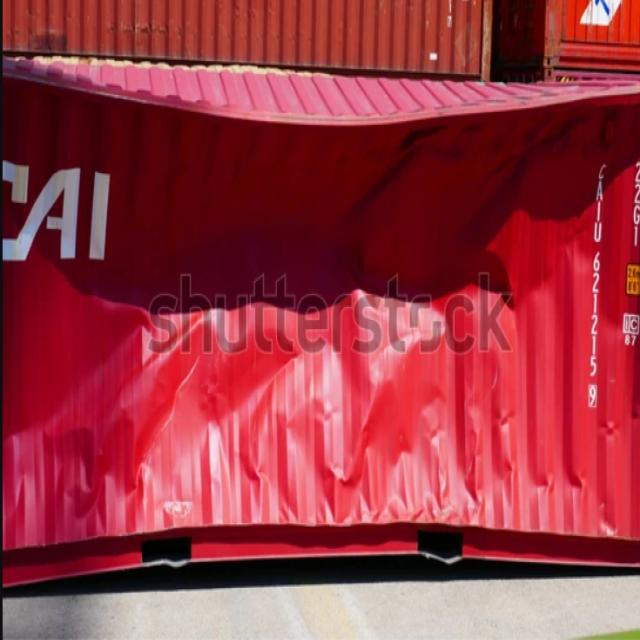dent: (7, 80, 609, 552), (9, 57, 608, 126)
